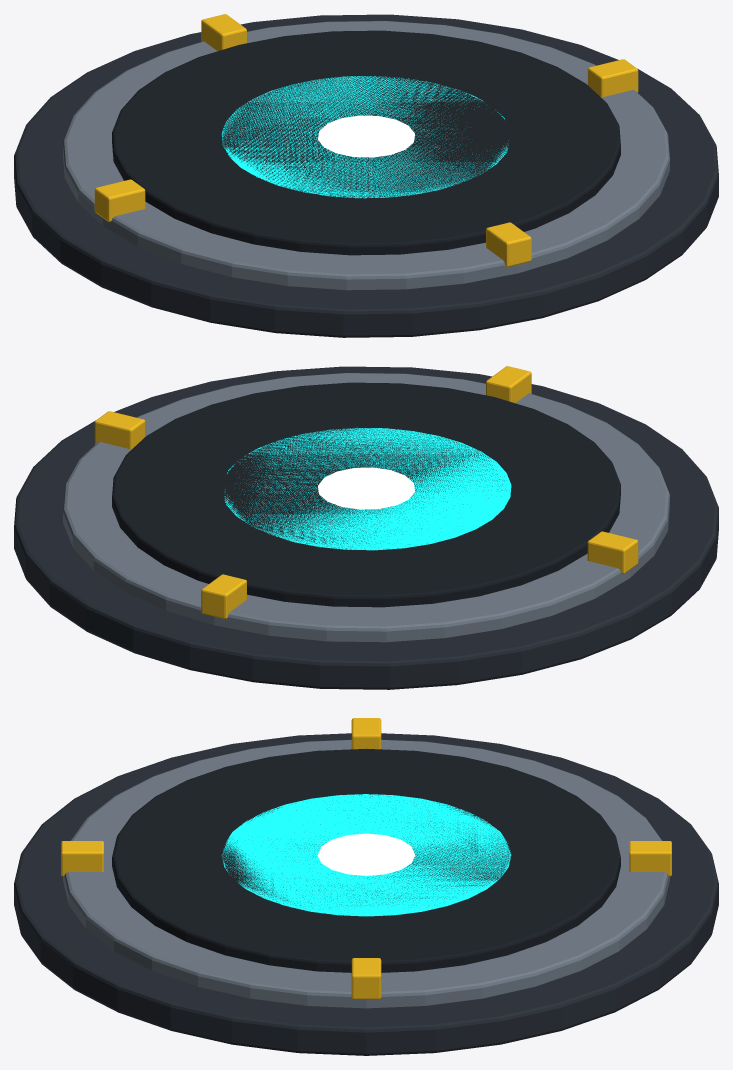
File: operative_podium.glb
3 renders of one model, top to bottom at view 1: azimuth 30°, elevation 25°; view 2: azimuth 150°, elevation 25°; view 3: azimuth 270°, elevation 25°, orthographic.
Parts seen in each view (by area): view 1: Podium_CenterDeck, Podium_OuterDisc, Podium_MidDisc, NeonRing_Inner, Anchor_Dot, LockClamp_2, LockClamp_3, LockClamp_0, LockClamp_1; view 2: Podium_CenterDeck, Podium_OuterDisc, Podium_MidDisc, NeonRing_Inner, Anchor_Dot, LockClamp_2, LockClamp_1, LockClamp_0, LockClamp_3; view 3: Podium_CenterDeck, Podium_OuterDisc, Podium_MidDisc, NeonRing_Inner, Anchor_Dot, LockClamp_1, LockClamp_3, LockClamp_0, LockClamp_2.
Part boxes in pixels (left/top/right/bottom): Podium_CenterDeck: left=112, top=30, right=620, bottom=255; Podium_OuterDisc: left=14, top=14, right=718, bottom=337; Podium_MidDisc: left=63, top=21, right=669, bottom=290; NeonRing_Inner: left=221, top=76, right=507, bottom=198; Anchor_Dot: left=318, top=115, right=414, bottom=157; LockClamp_2: left=94, top=179, right=145, bottom=221; LockClamp_3: left=486, top=222, right=531, bottom=266; LockClamp_0: left=587, top=59, right=638, bottom=97; LockClamp_1: left=201, top=14, right=246, bottom=50; Podium_CenterDeck: left=112, top=382, right=620, bottom=607; Podium_OuterDisc: left=14, top=366, right=718, bottom=689; Podium_MidDisc: left=63, top=373, right=669, bottom=642; NeonRing_Inner: left=224, top=427, right=511, bottom=550; Anchor_Dot: left=318, top=467, right=414, bottom=509; LockClamp_2: left=587, top=531, right=638, bottom=573; LockClamp_1: left=201, top=574, right=246, bottom=618; LockClamp_0: left=94, top=411, right=145, bottom=449; LockClamp_3: left=486, top=366, right=531, bottom=402; Podium_CenterDeck: left=112, top=748, right=620, bottom=972; Podium_OuterDisc: left=14, top=733, right=718, bottom=1055; Podium_MidDisc: left=63, top=739, right=669, bottom=1008; NeonRing_Inner: left=221, top=794, right=511, bottom=916; Anchor_Dot: left=317, top=833, right=415, bottom=875; LockClamp_1: left=629, top=841, right=671, bottom=876; LockClamp_3: left=61, top=841, right=103, bottom=876; LockClamp_0: left=351, top=958, right=381, bottom=999; LockClamp_2: left=351, top=718, right=381, bottom=749.
Bounding box in the file's own units: 3.6 × 0.35 × 3.6.
